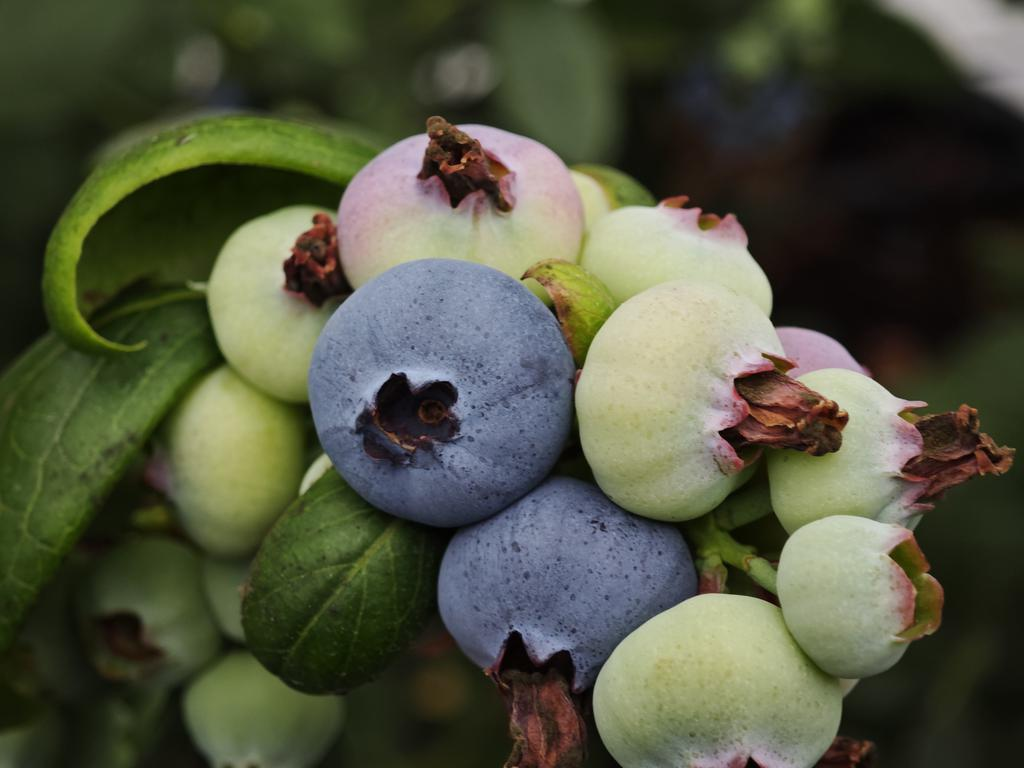RipeBlueBerry: (304, 253, 576, 531), (435, 479, 698, 699)
UnripeBlueBerry: (574, 273, 803, 529)
